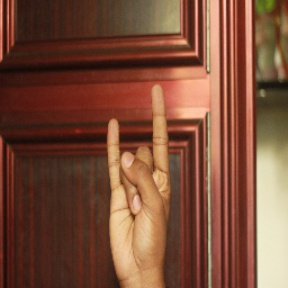V: (104, 80, 178, 270)
